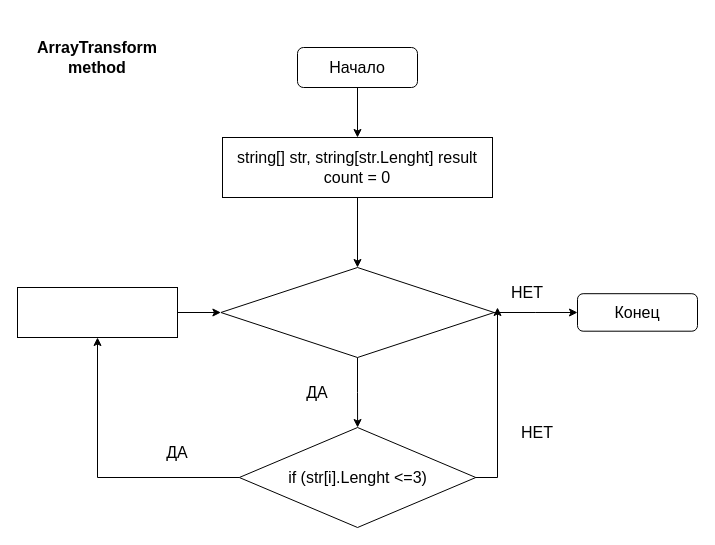
Image size: 715x545. Some labels were removed from this diagram. Each missing label, with the centre of its shape:
"for (i = 0; i < str.Lenght; i++)" belongs at [357,312].
"result[count] = str[i] count++" belongs at [97,312].
